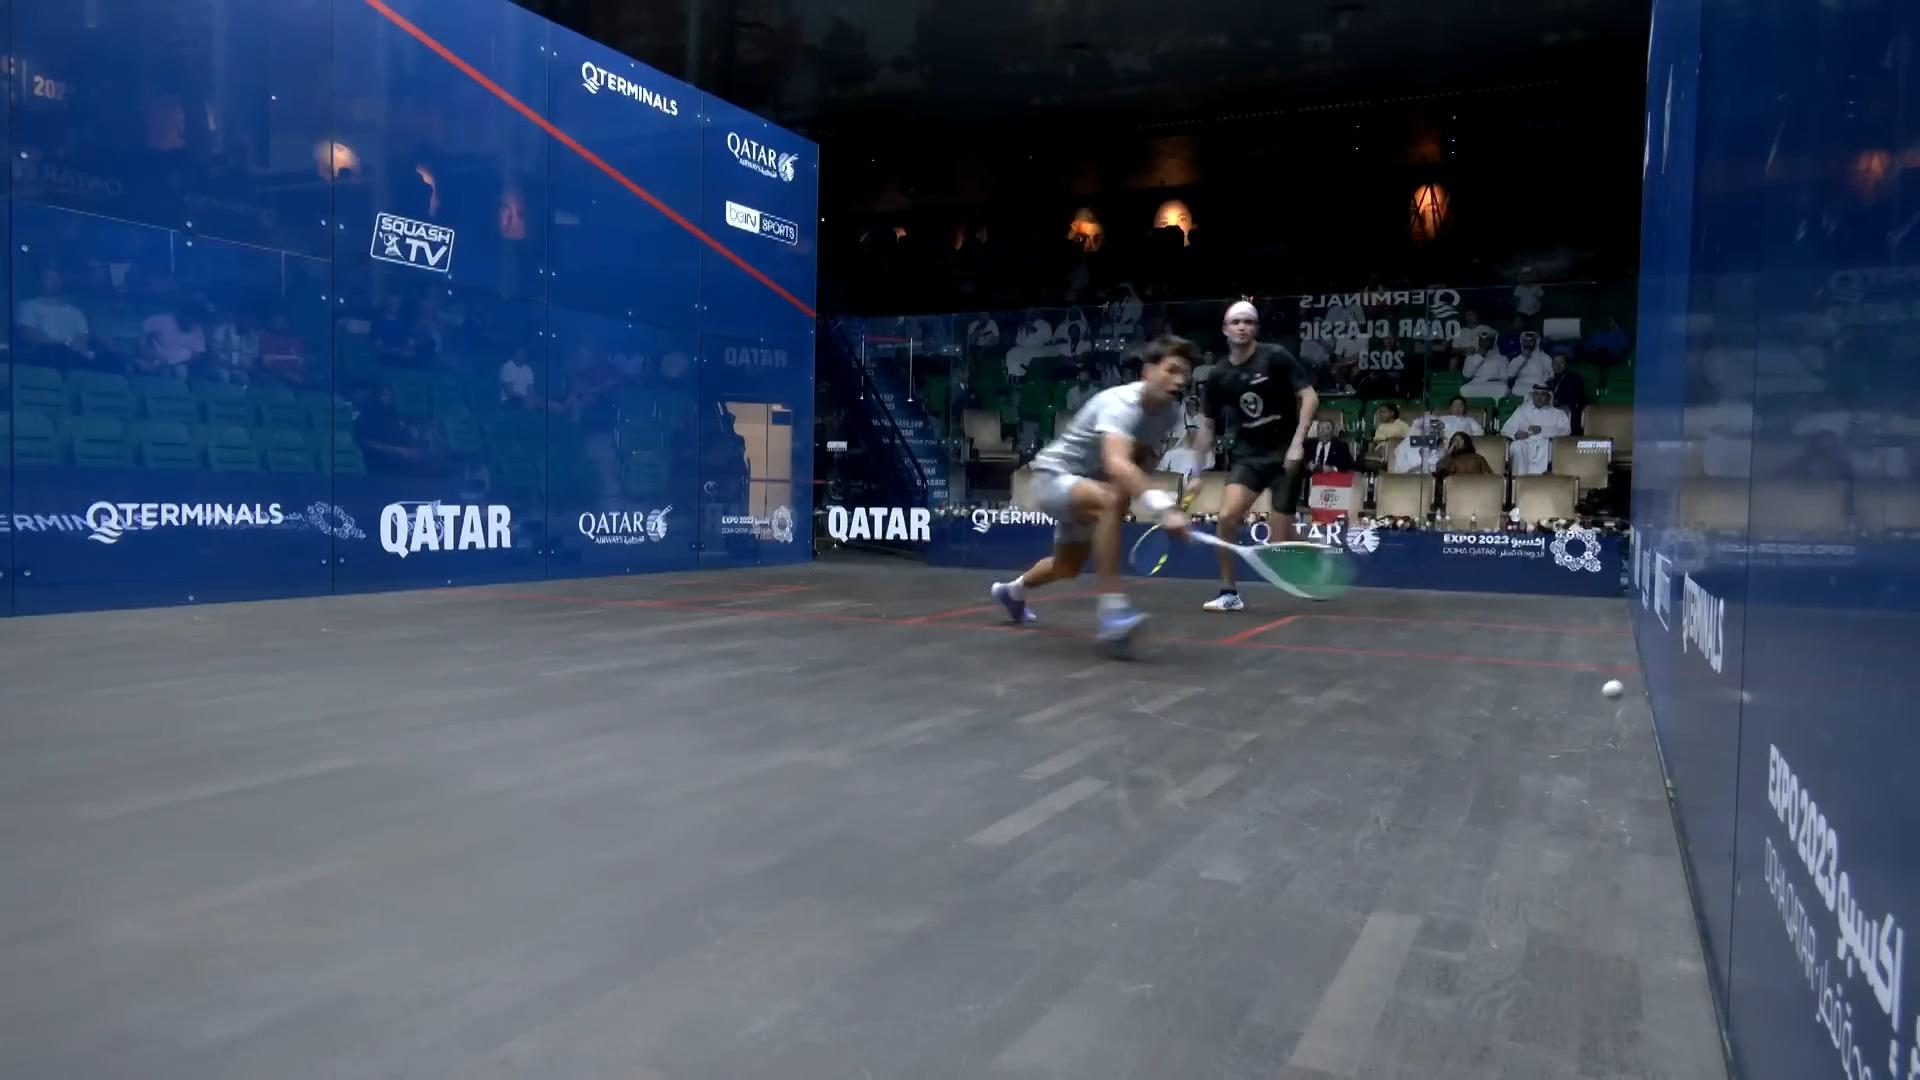Racket: (1191, 522, 1357, 604)
